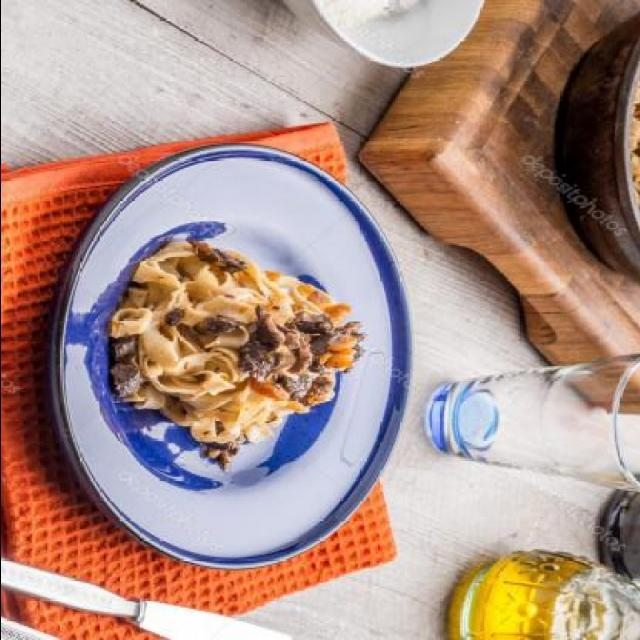Pasta al ragu: (103, 234, 394, 486)
